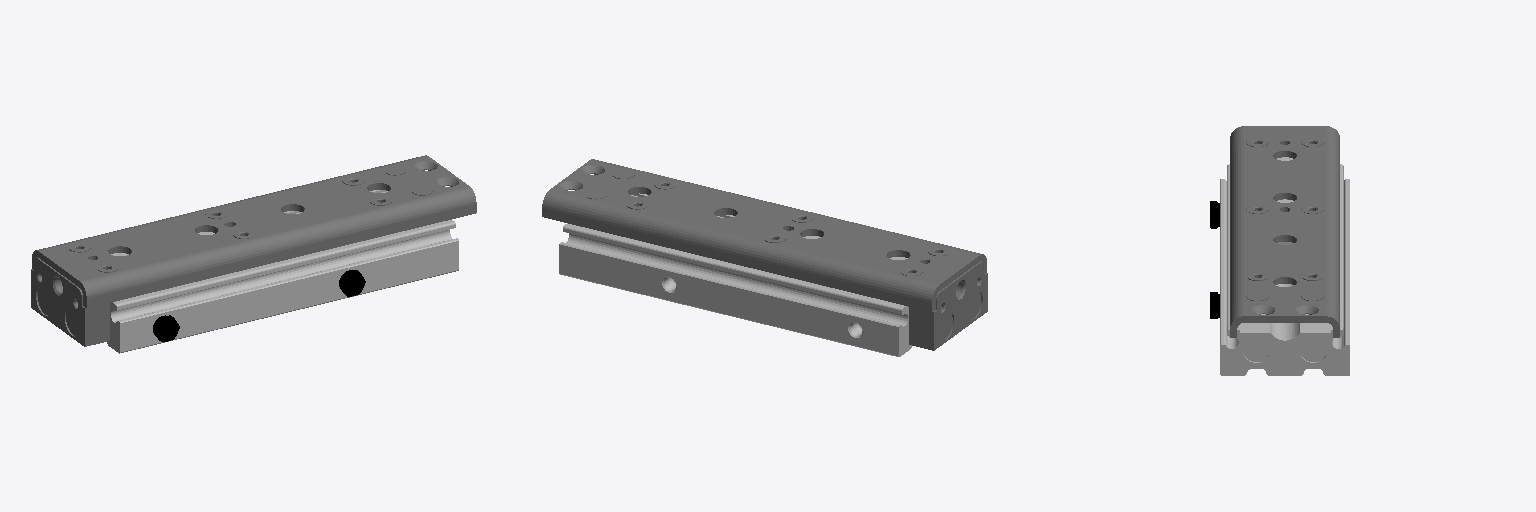
File: MXQ8A-50Z(0_0).obj
3 renders of one model, left to right at view 1: azimuth 30°, elevation 25°; view 2: azimuth 150°, elevation 25°; view 3: azimuth 270°, elevation 25°, orthographic.
Visible parts, largest first — view 1: Solid1:1, Solid1, Solid1:3, Solid1:2; view 2: Solid1:1, Solid1; view 3: Solid1:1, Solid1.
Boxes of the visible parts, <box> form: Solid1:1: <box>31,155,476,346</box>; Solid1: <box>107,190,458,353</box>; Solid1:3: <box>153,315,179,341</box>; Solid1:2: <box>339,270,365,296</box>; Solid1:1: <box>542,159,987,350</box>; Solid1: <box>559,193,911,356</box>; Solid1:1: <box>1230,126,1339,337</box>; Solid1: <box>1220,157,1349,375</box>.
Bounding box in the file's own units: 132 × 23 × 41.